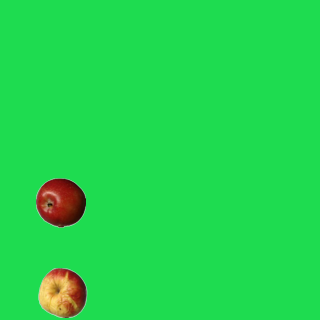Apple Braeburn: (35, 177, 85, 227)
Apple Red Yellow 1: (37, 267, 87, 317)
